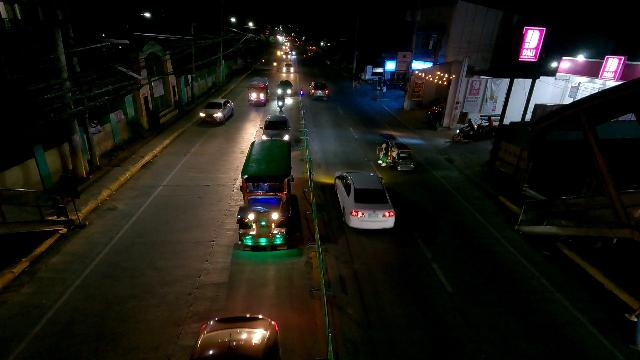car: (190, 314, 280, 360), (333, 171, 396, 231), (201, 98, 234, 125), (260, 114, 293, 140), (310, 79, 330, 100), (275, 80, 294, 98), (282, 61, 294, 73)
jeepney: (233, 138, 292, 248), (247, 76, 269, 106)
motorcycle: (276, 92, 286, 111)
